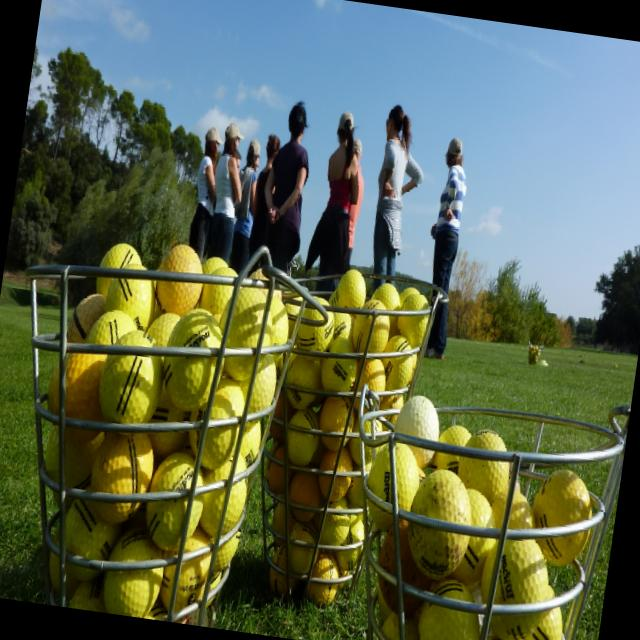Tennis Ball: (21, 227, 623, 640)
